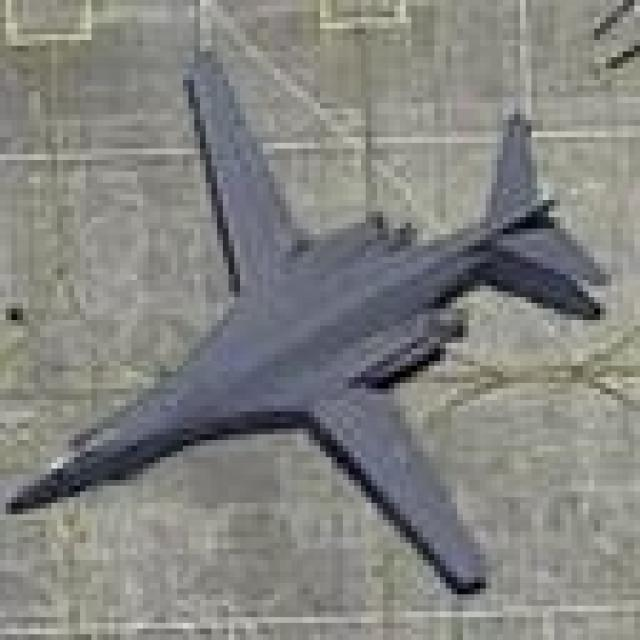B-1_TopDown: (0, 28, 611, 594)
